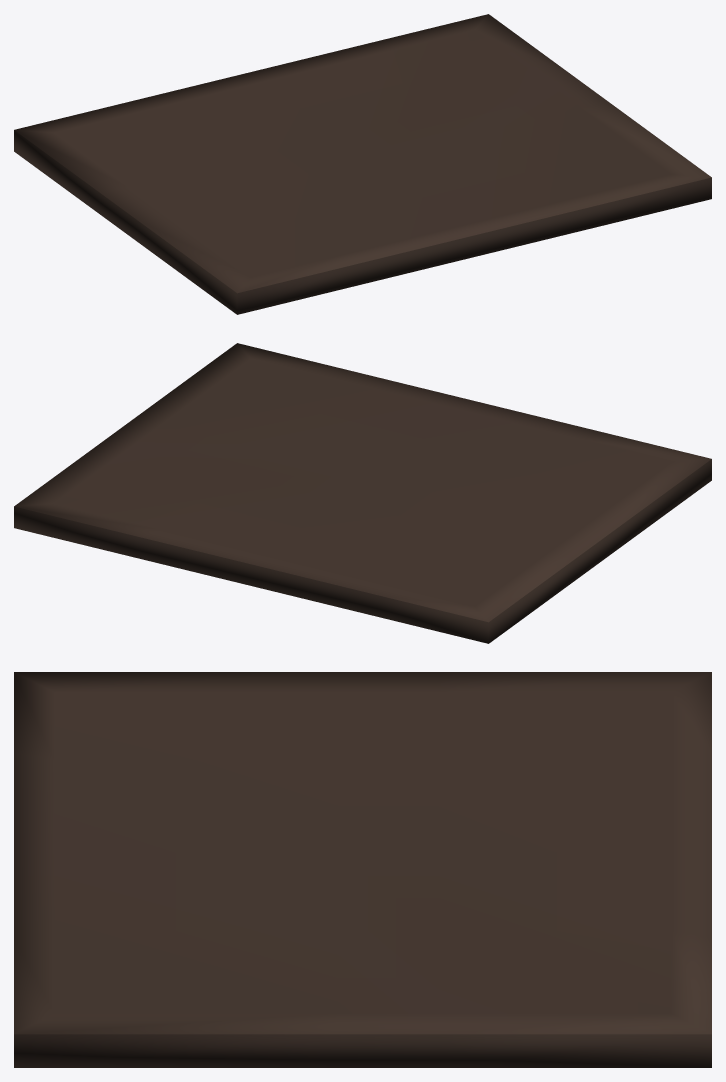
3 renders of one model, top to bottom at view 1: azimuth 30°, elevation 25°; view 2: azimuth 150°, elevation 25°; view 3: azimuth 270°, elevation 25°, orthographic. The views are drawn at different scales.
Parts seen in each view (by area): view 1: base.067; view 2: base.067; view 3: base.067.
Boxes of the visible parts, left/top/right/bottom form: base.067: left=14, top=14, right=711, bottom=314; base.067: left=14, top=343, right=711, bottom=643; base.067: left=14, top=672, right=711, bottom=1067.
Size of the model in its own units: 0.5 by 0.0218 by 0.4073.
